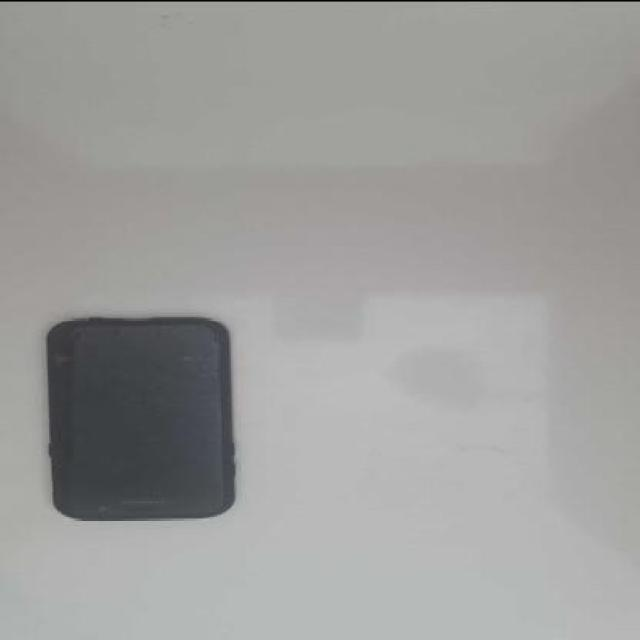phone: (52, 316, 230, 519)
